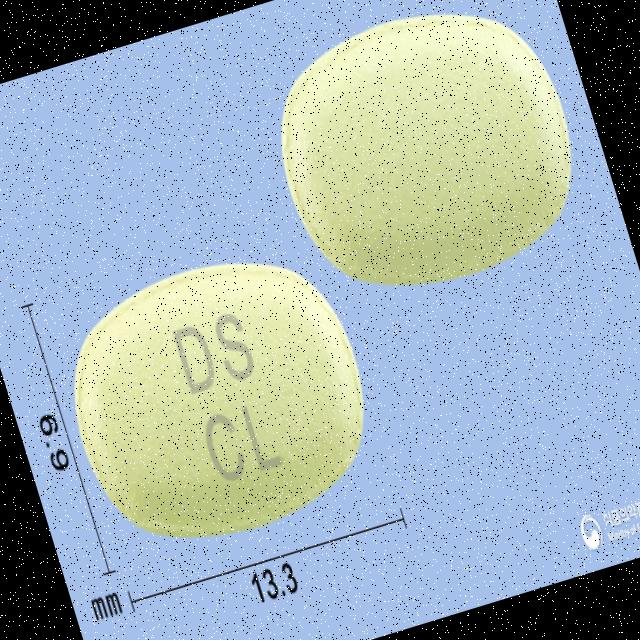Heracin: (42, 226, 395, 568)
